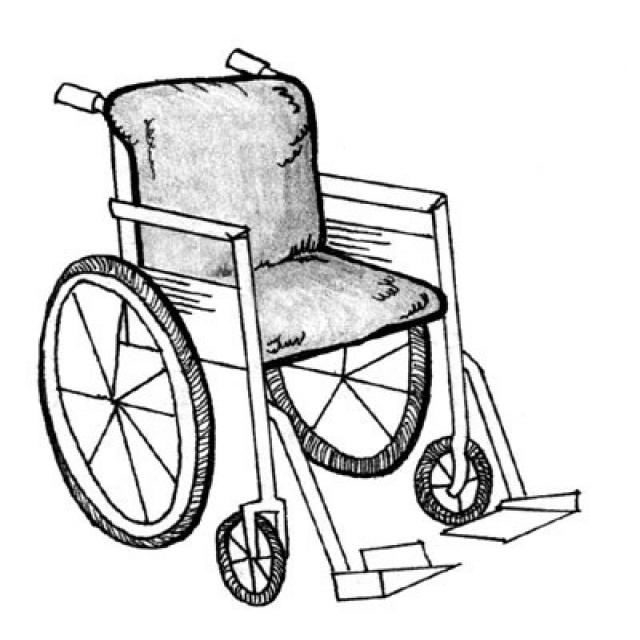wheelchair: (31, 45, 601, 609)
